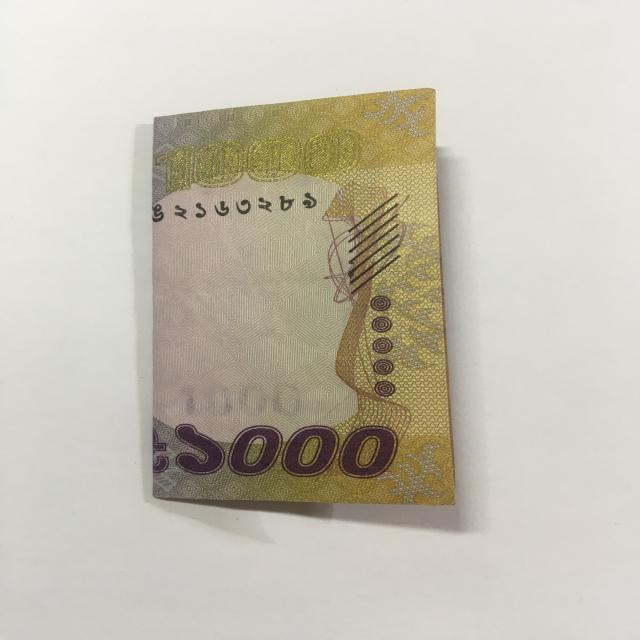Taka: (143, 82, 464, 520)
